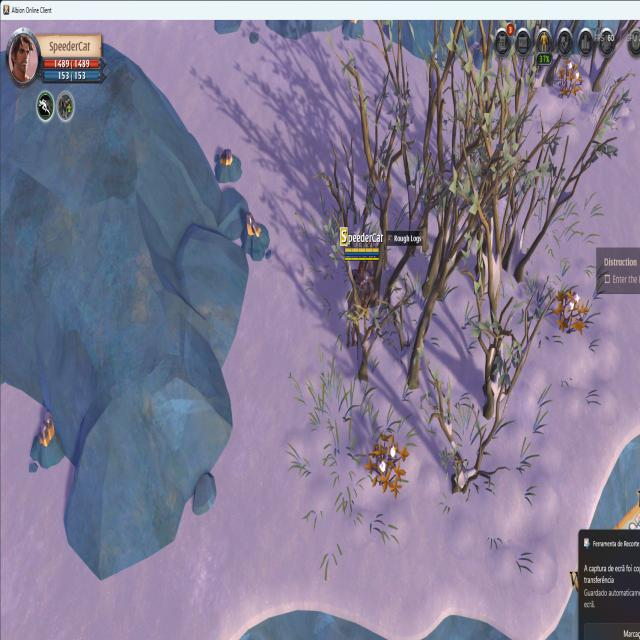copper: (27, 409, 65, 474), (240, 210, 270, 263), (212, 146, 243, 188)
cotton: (362, 426, 410, 501), (551, 282, 589, 341), (554, 58, 584, 102)
